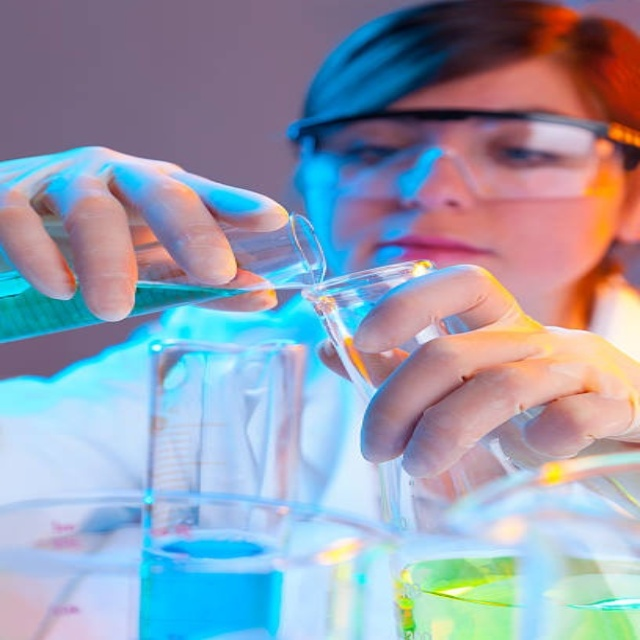Gafas: (288, 109, 639, 193)
Guantes: (353, 259, 635, 492), (6, 144, 287, 316)
Sin_mascara: (365, 219, 500, 261)
